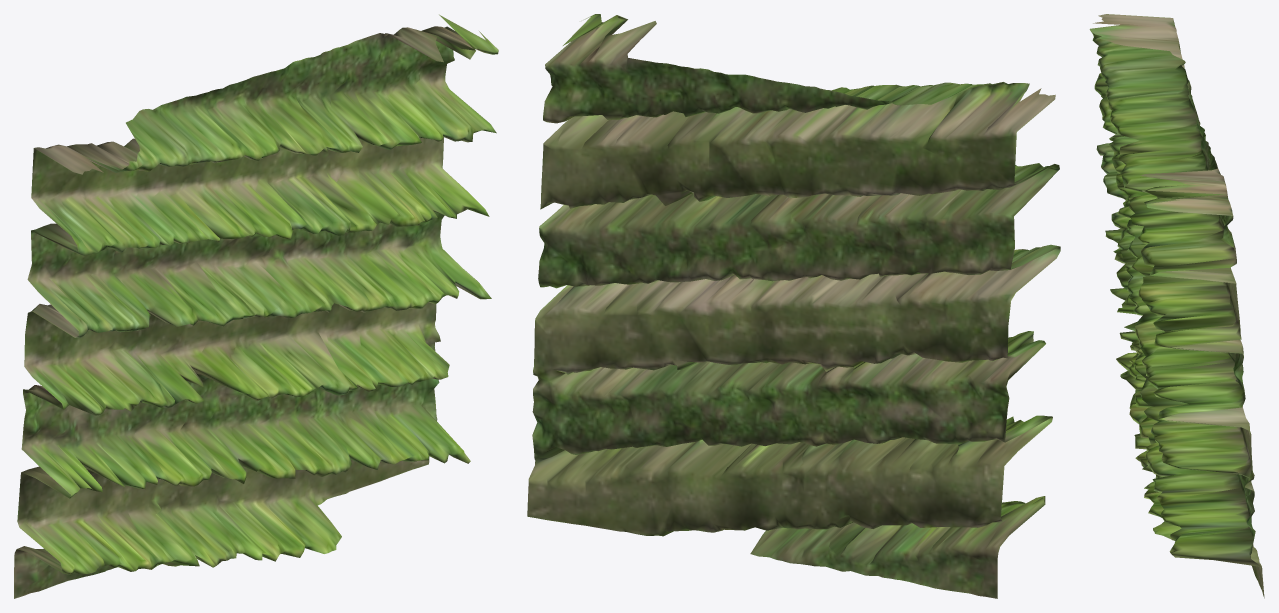
Rendered from map_30_0.obj.
3 renders of one model, left to right at view 1: azimuth 30°, elevation 25°; view 2: azimuth 150°, elevation 25°; view 3: azimuth 270°, elevation 25°, orthographic. The views are drawn at different scales.
Visible parts, largest first — view 1: map_30_0.obj; view 2: map_30_0.obj; view 3: map_30_0.obj.
Boxes of the visible parts, x1,y1,x2,y2 form: map_30_0.obj: (14,14,498,598); map_30_0.obj: (527,14,1060,598); map_30_0.obj: (1089,14,1264,598).
Bounding box in the file's own units: 10 × 10 × 3.98.
Materials: 1 (1 with a texture image).
